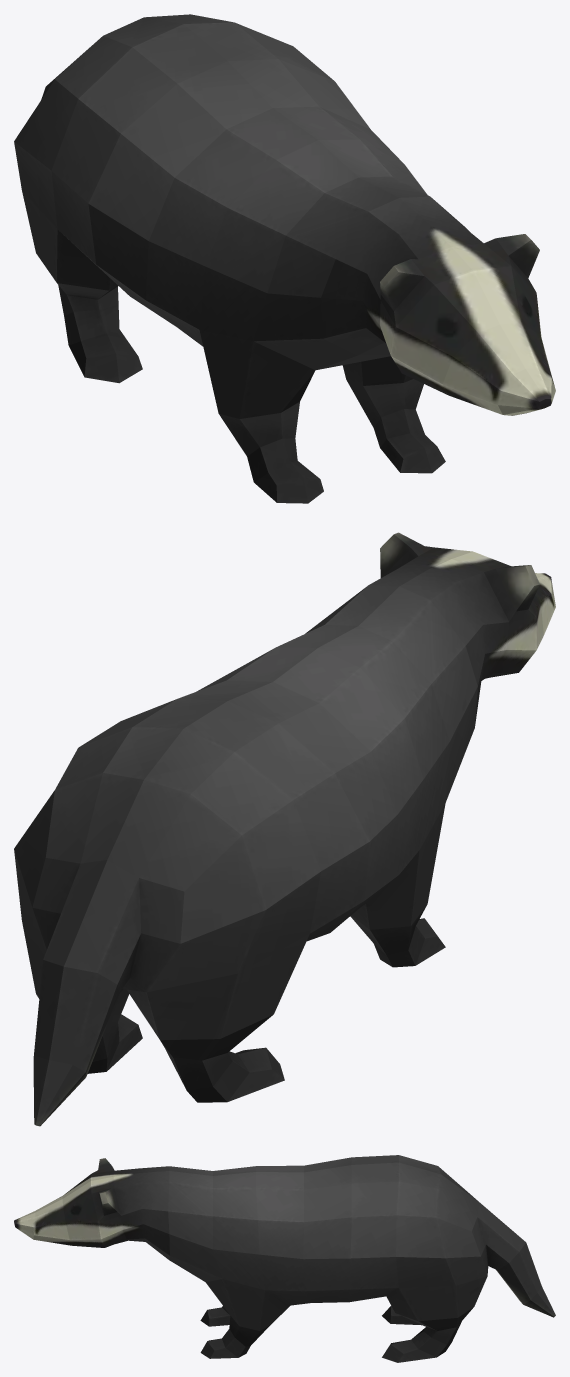
File: badger.glb
The picture shows the model from 3 angles, top to bottom: view 1: azimuth 30°, elevation 25°; view 2: azimuth 150°, elevation 25°; view 3: azimuth 270°, elevation 25°; orthographic projection. The views are drawn at different scales.
Visible parts, largest first — view 1: Badger:Badger_mesh; view 2: Badger:Badger_mesh; view 3: Badger:Badger_mesh.
Part boxes in pixels (box(x1,y1,x2,y2)): Badger:Badger_mesh: box(14, 14, 555, 503); Badger:Badger_mesh: box(14, 532, 555, 1126); Badger:Badger_mesh: box(14, 1155, 555, 1362).
Bounding box in the file's own units: 3.41 × 3.8 × 10.71.
Materials: 1 (1 with a texture image).
